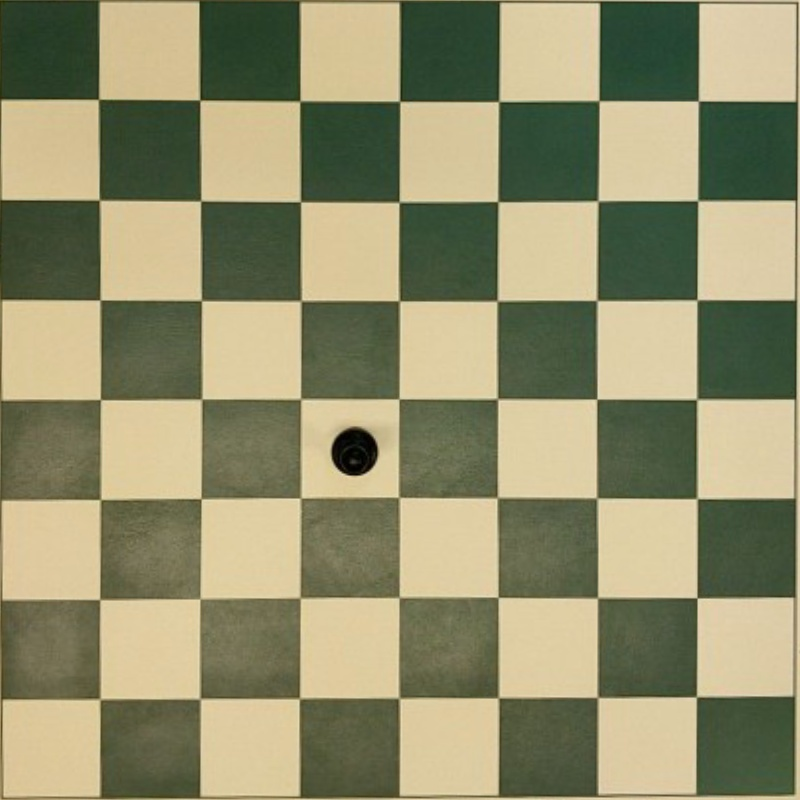black-pawn: (330, 427, 378, 476)
